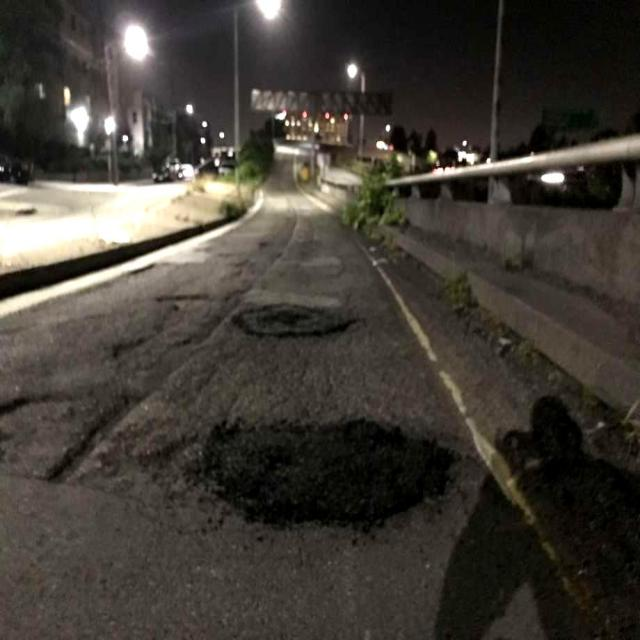pothole: (203, 413, 455, 533), (237, 300, 342, 342), (152, 289, 212, 318)
